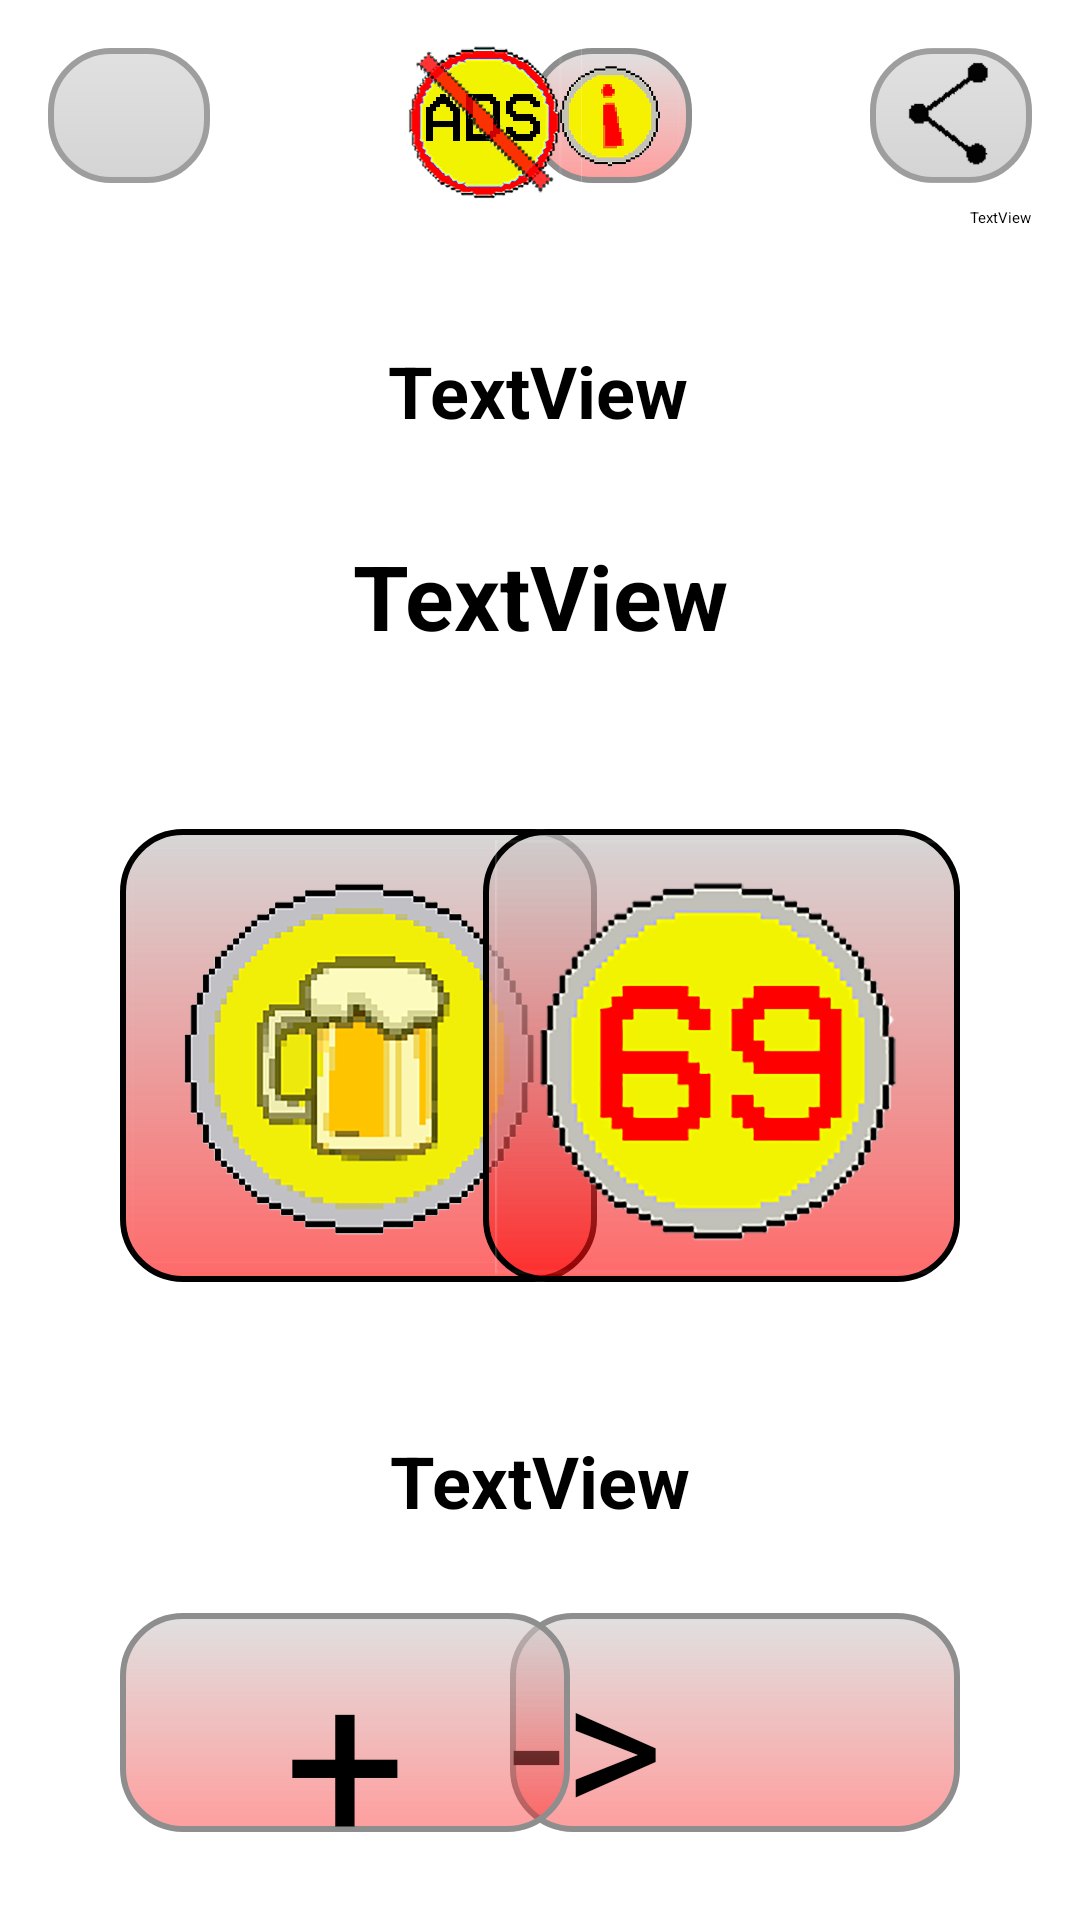

Screen size 1080x1920. Icon name, then its center in pixels as [x,y]:
pixel info: [611,115]
pixel teilen: [951,115]
